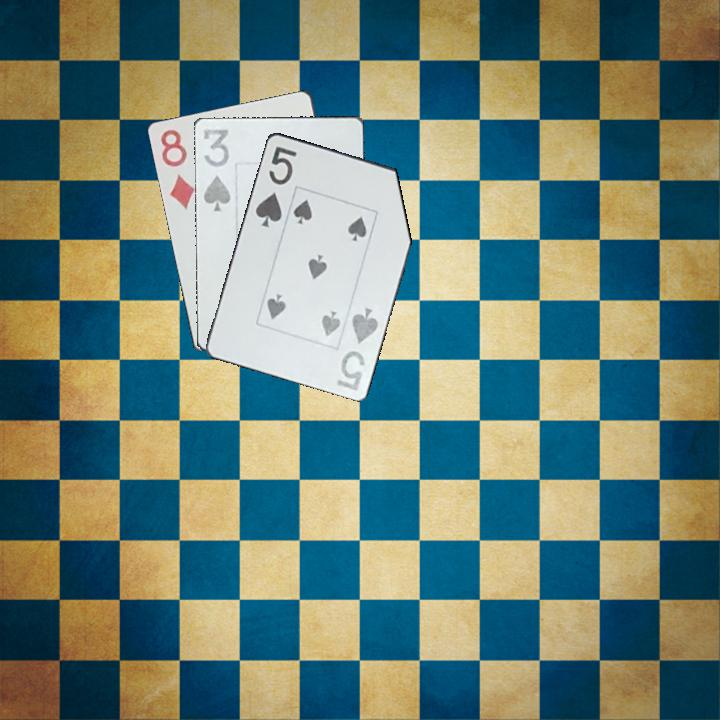3s: (200, 123, 234, 214)
5s: (334, 303, 381, 393), (252, 142, 300, 230)
8d: (156, 125, 197, 212)
